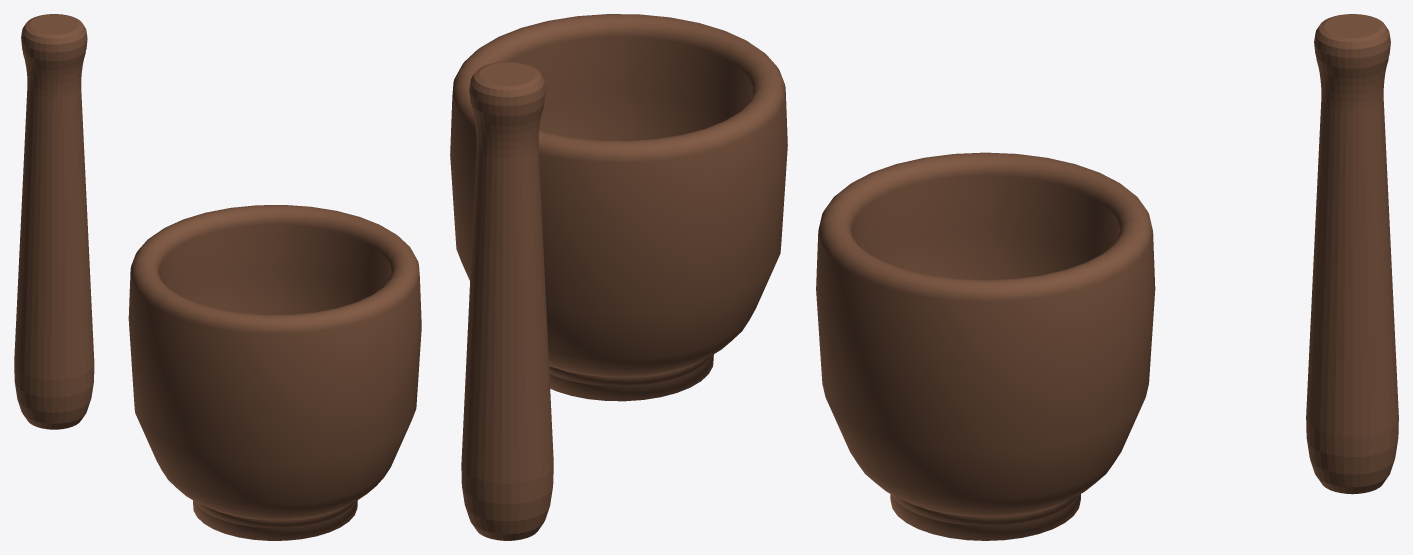
Rendered from mortarNpestle.fbx.
The picture shows the model from 3 angles, left to right: view 1: azimuth 30°, elevation 25°; view 2: azimuth 150°, elevation 25°; view 3: azimuth 270°, elevation 25°; orthographic projection. The views are drawn at different scales.
Parts seen in each view (by area): view 1: mortar, pestle; view 2: mortar, pestle; view 3: mortar, pestle.
Part boxes in pixels (<box>): mortar: <box>128,205,421,540</box>; pestle: <box>14,14,94,429</box>; mortar: <box>450,14,787,401</box>; pestle: <box>461,62,553,540</box>; mortar: <box>816,152,1155,540</box>; pestle: <box>1306,14,1398,494</box>.
Size of the model in its own units: 370 by 550 by 635.
